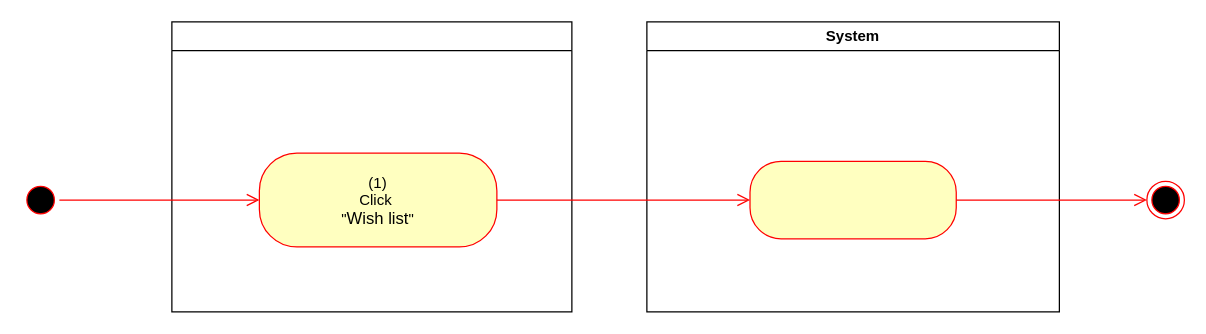
Image size: 1206x334. Some labels were removed from this diagram. The shapes that lost their labels are listed below. From the top down, each one's box as (x1, y1, x2, y2) in pixels, then its label:
(171, 21, 572, 312): User
(749, 160, 956, 239): (2) Load " Wish list " Screen
